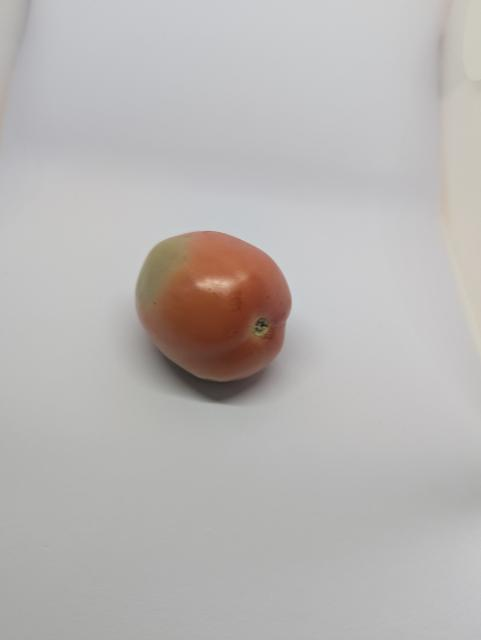turning: (124, 217, 307, 391)
